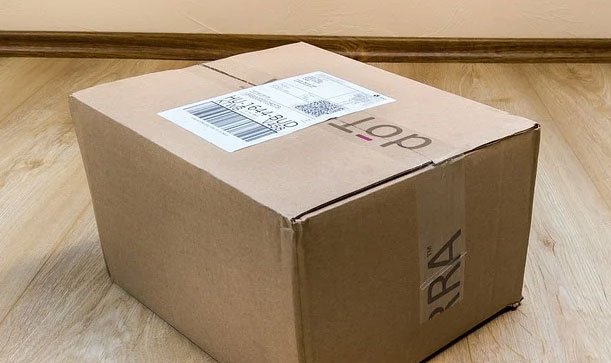undamaged: (70, 40, 543, 362)
